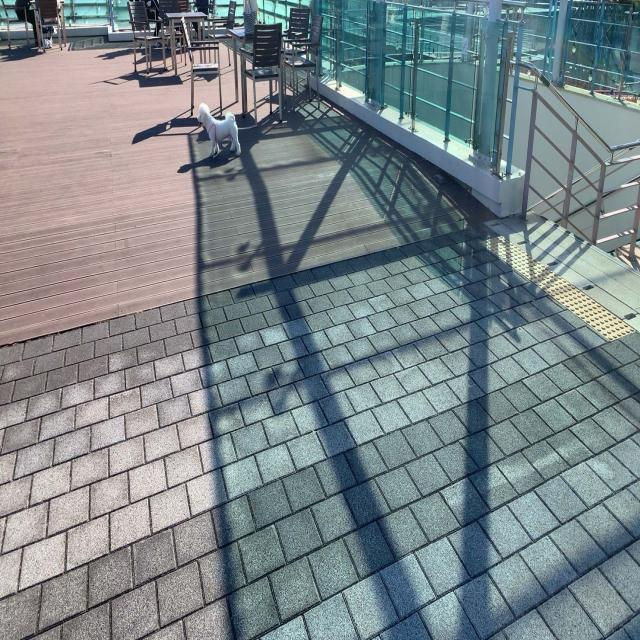Dog: (197, 102, 241, 160)
